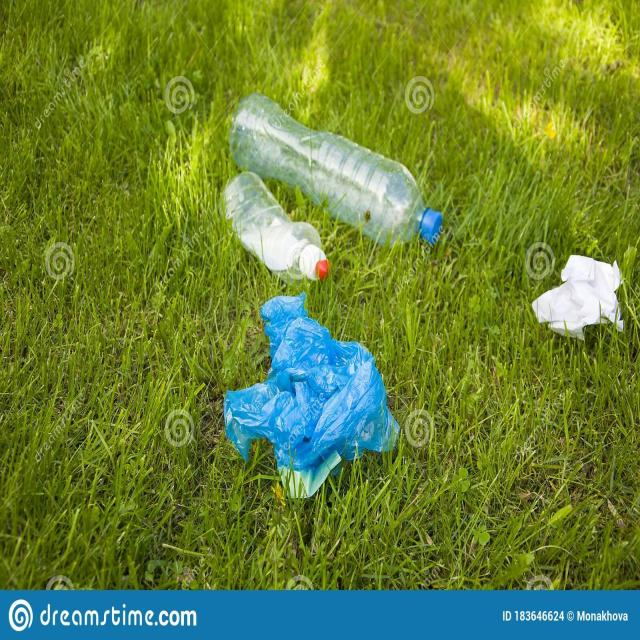bottle: (224, 82, 450, 248), (211, 162, 333, 288), (278, 234, 280, 239)
